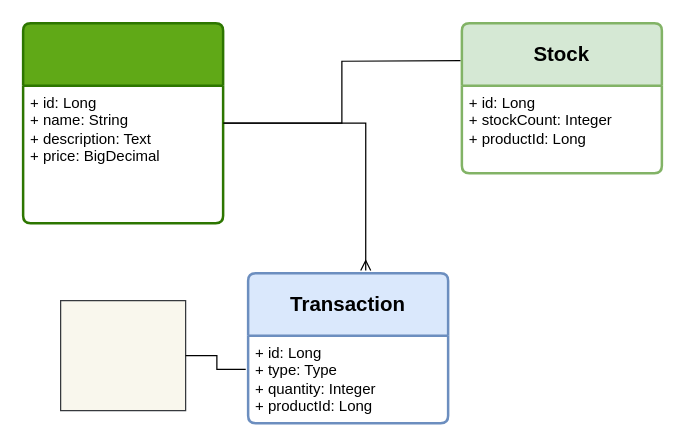
Some shapes in this 684 by 445 pixel diagram are drawn without their labels. The shapes that lost their labels are listed below. From the top down, each one's box as (x1, y1, x2, y2) in pixels, then its label:
(21, 21, 224, 224): Product
(59, 299, 186, 411): <<Enumeration>> Type IN OUT
